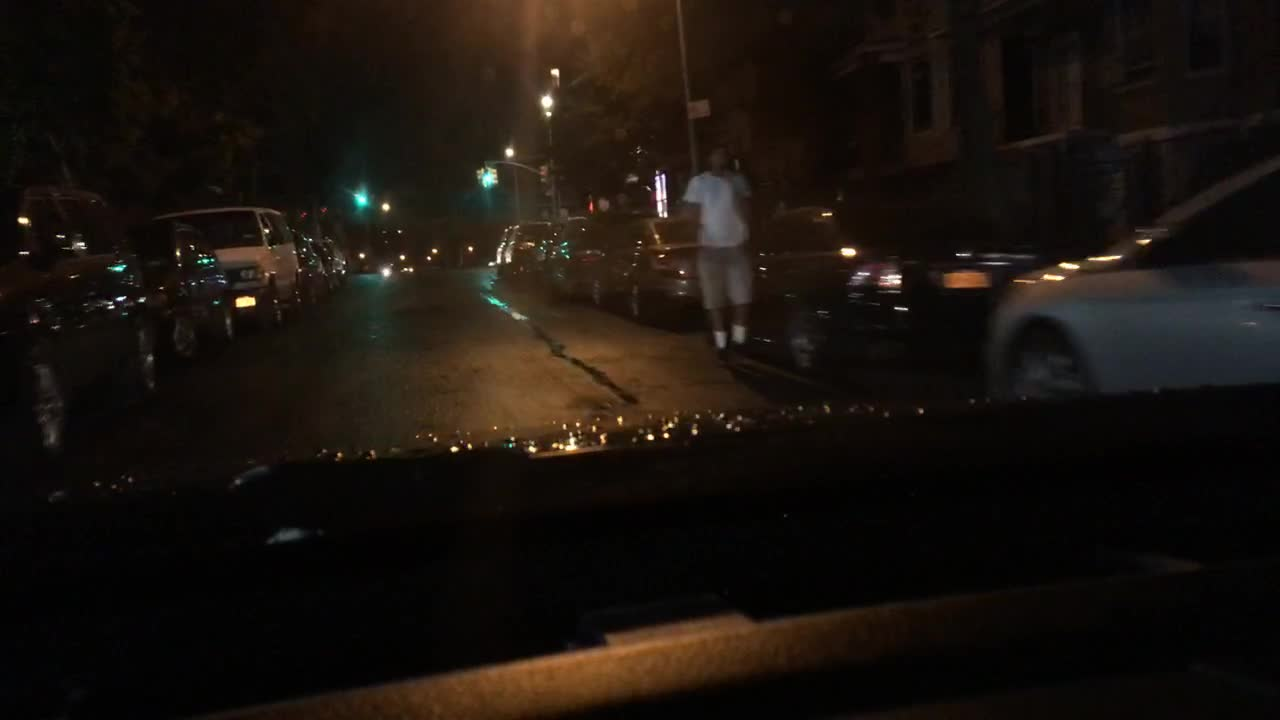car: (980, 148, 1278, 394), (762, 199, 1046, 378), (1, 184, 162, 452), (168, 202, 308, 331), (128, 214, 243, 364), (587, 208, 701, 323), (541, 217, 611, 303), (289, 227, 335, 311), (309, 232, 359, 296), (510, 219, 556, 286), (494, 224, 521, 279)
person: (676, 136, 761, 359)
traffic light: (471, 163, 482, 187), (479, 163, 490, 185), (353, 187, 365, 204), (490, 167, 497, 188)
traffic sign: (686, 96, 711, 119)
